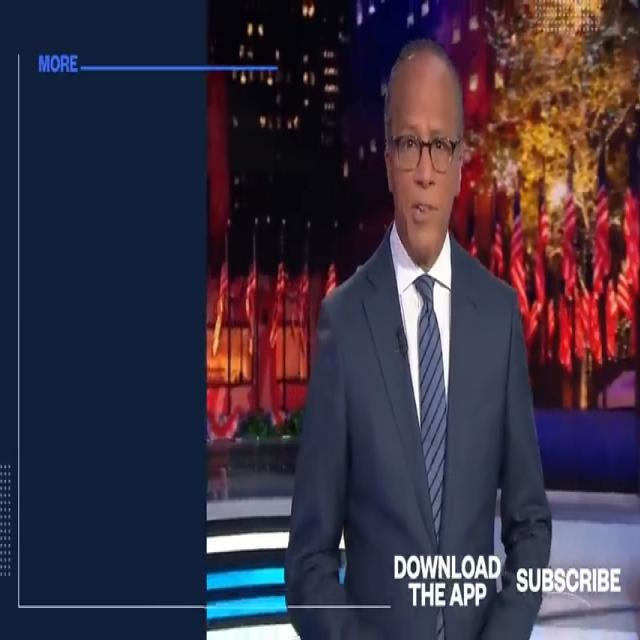non-fight: (283, 31, 556, 640)
